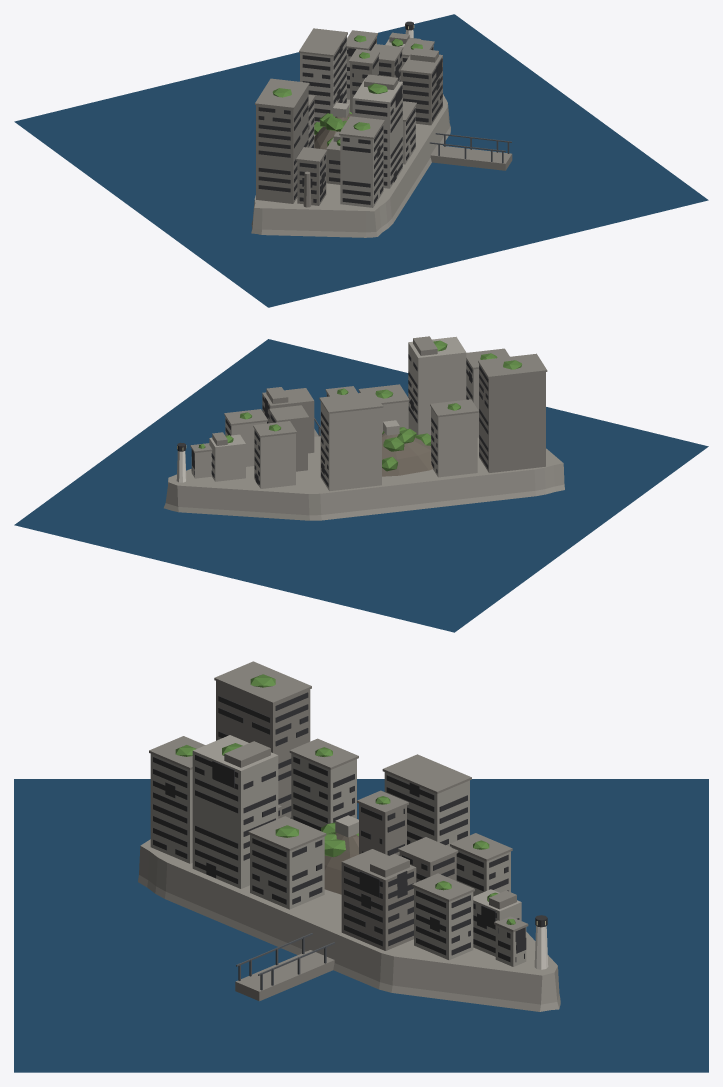
The model's file is gunkanjima.glb.
3 renders of one model, top to bottom at view 1: azimuth 30°, elevation 25°; view 2: azimuth 150°, elevation 25°; view 3: azimuth 270°, elevation 25°, orthographic. The views are drawn at different scales.
Parts seen in each view (by area): view 1: gunkanjima_water, gunkanjima_concrete2, gunkanjima_concrete, gunkanjima_dark, gunkanjima_pave, gunkanjima_green, gunkanjima_steel; view 2: gunkanjima_water, gunkanjima_concrete, gunkanjima_concrete2, gunkanjima_pave, gunkanjima_dark, gunkanjima_green, gunkanjima_rock; view 3: gunkanjima_water, gunkanjima_concrete, gunkanjima_concrete2, gunkanjima_dark, gunkanjima_pave, gunkanjima_green, gunkanjima_rock, gunkanjima_steel.
Boxes of the visible parts, x1,y1,x2,y2 form: gunkanjima_water: [14, 14, 708, 307]; gunkanjima_concrete2: [255, 28, 512, 207]; gunkanjima_concrete: [251, 36, 450, 237]; gunkanjima_dark: [258, 21, 442, 204]; gunkanjima_pave: [254, 94, 447, 211]; gunkanjima_green: [272, 35, 422, 146]; gunkanjima_steel: [429, 133, 511, 163]; gunkanjima_water: [14, 339, 708, 632]; gunkanjima_concrete: [164, 336, 564, 520]; gunkanjima_concrete2: [190, 336, 547, 472]; gunkanjima_pave: [168, 436, 563, 493]; gunkanjima_dark: [177, 354, 488, 487]; gunkanjima_green: [198, 340, 522, 471]; gunkanjima_rock: [382, 433, 432, 476]; gunkanjima_water: [14, 779, 708, 1072]; gunkanjima_concrete: [138, 735, 560, 1011]; gunkanjima_concrete2: [149, 661, 528, 1001]; gunkanjima_dark: [153, 692, 547, 962]; gunkanjima_pave: [140, 839, 557, 975]; gunkanjima_green: [175, 674, 515, 924]; gunkanjima_rock: [324, 833, 358, 894]; gunkanjima_steel: [236, 933, 334, 990].
Size of the model in its own units: 22.4 by 6.54 by 22.4.
